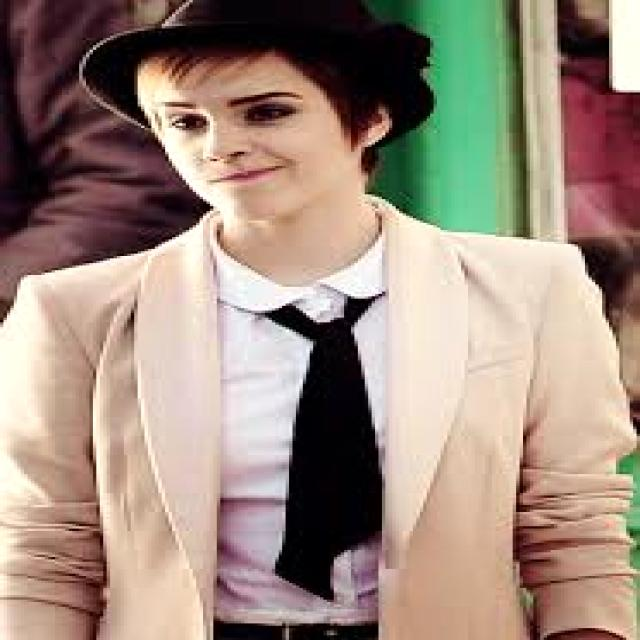face: (138, 53, 388, 220)
hat: (80, 0, 433, 142)
